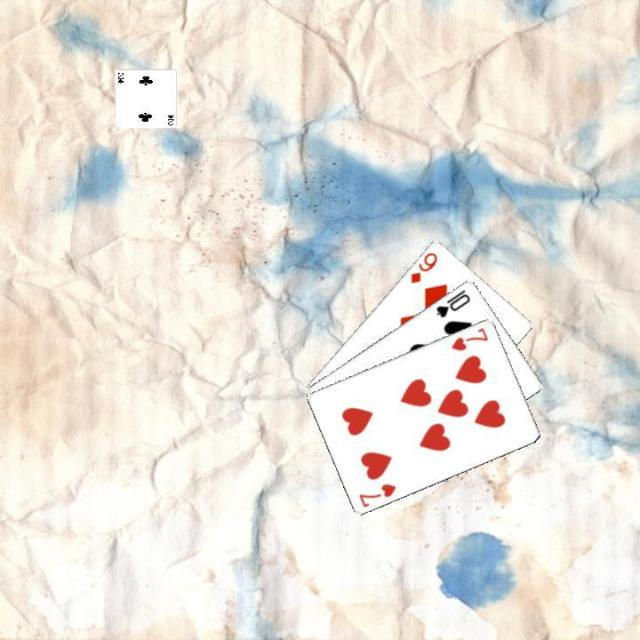10S: (432, 285, 472, 319)
7H: (447, 323, 491, 353), (355, 479, 398, 509)
9D: (406, 248, 439, 284)
